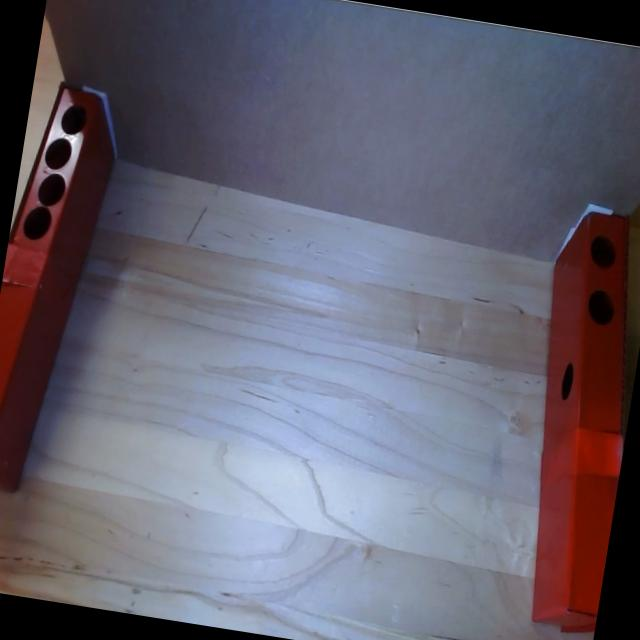Hole: (586, 284, 617, 328), (20, 204, 54, 242), (588, 232, 619, 270), (43, 136, 73, 172), (37, 172, 67, 208), (60, 102, 89, 136), (560, 361, 576, 401)
